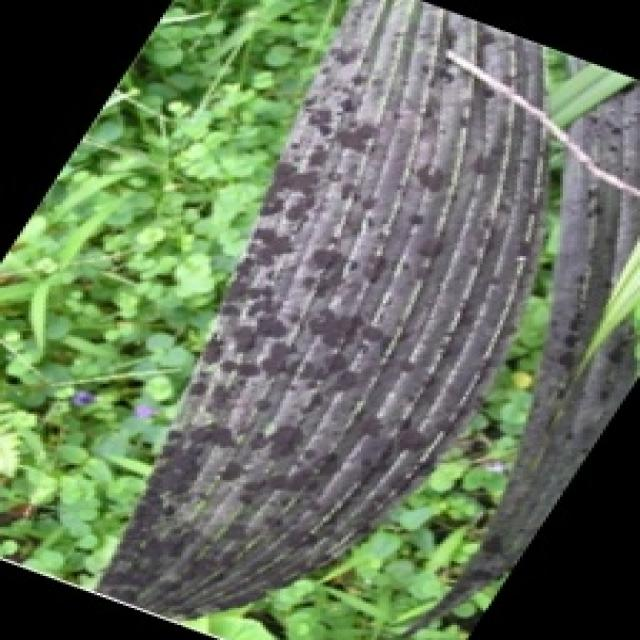Sooty Mold: (0, 0, 637, 638)
